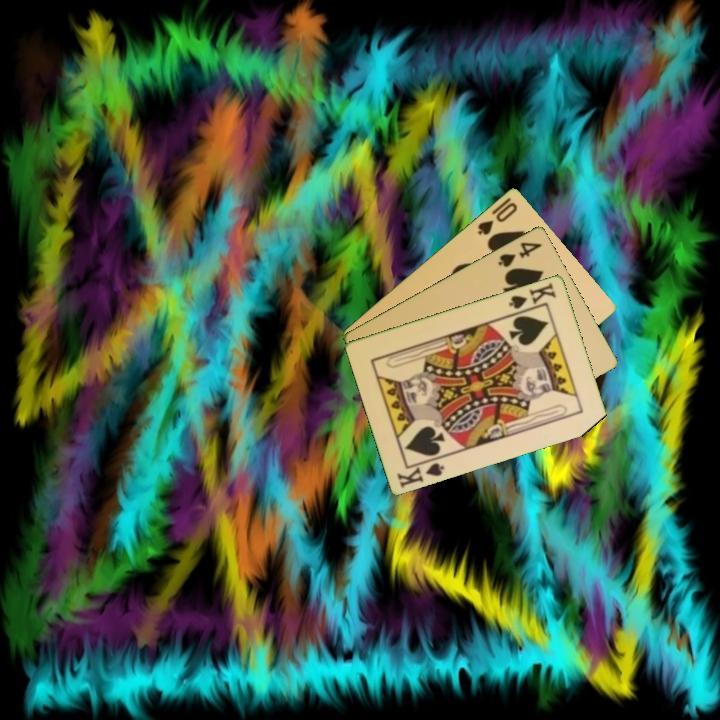10s: (473, 198, 520, 238)
4s: (494, 238, 545, 270)
Ks: (394, 453, 447, 491), (505, 279, 559, 316)
